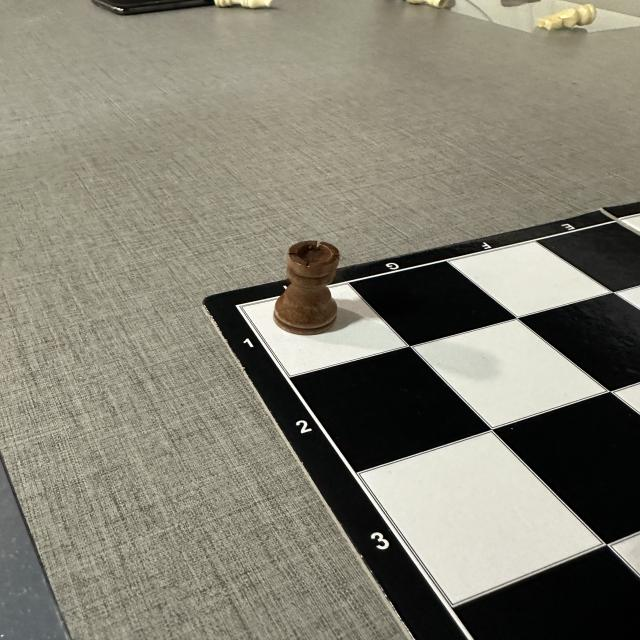Black-Rook: (274, 241, 339, 334)
